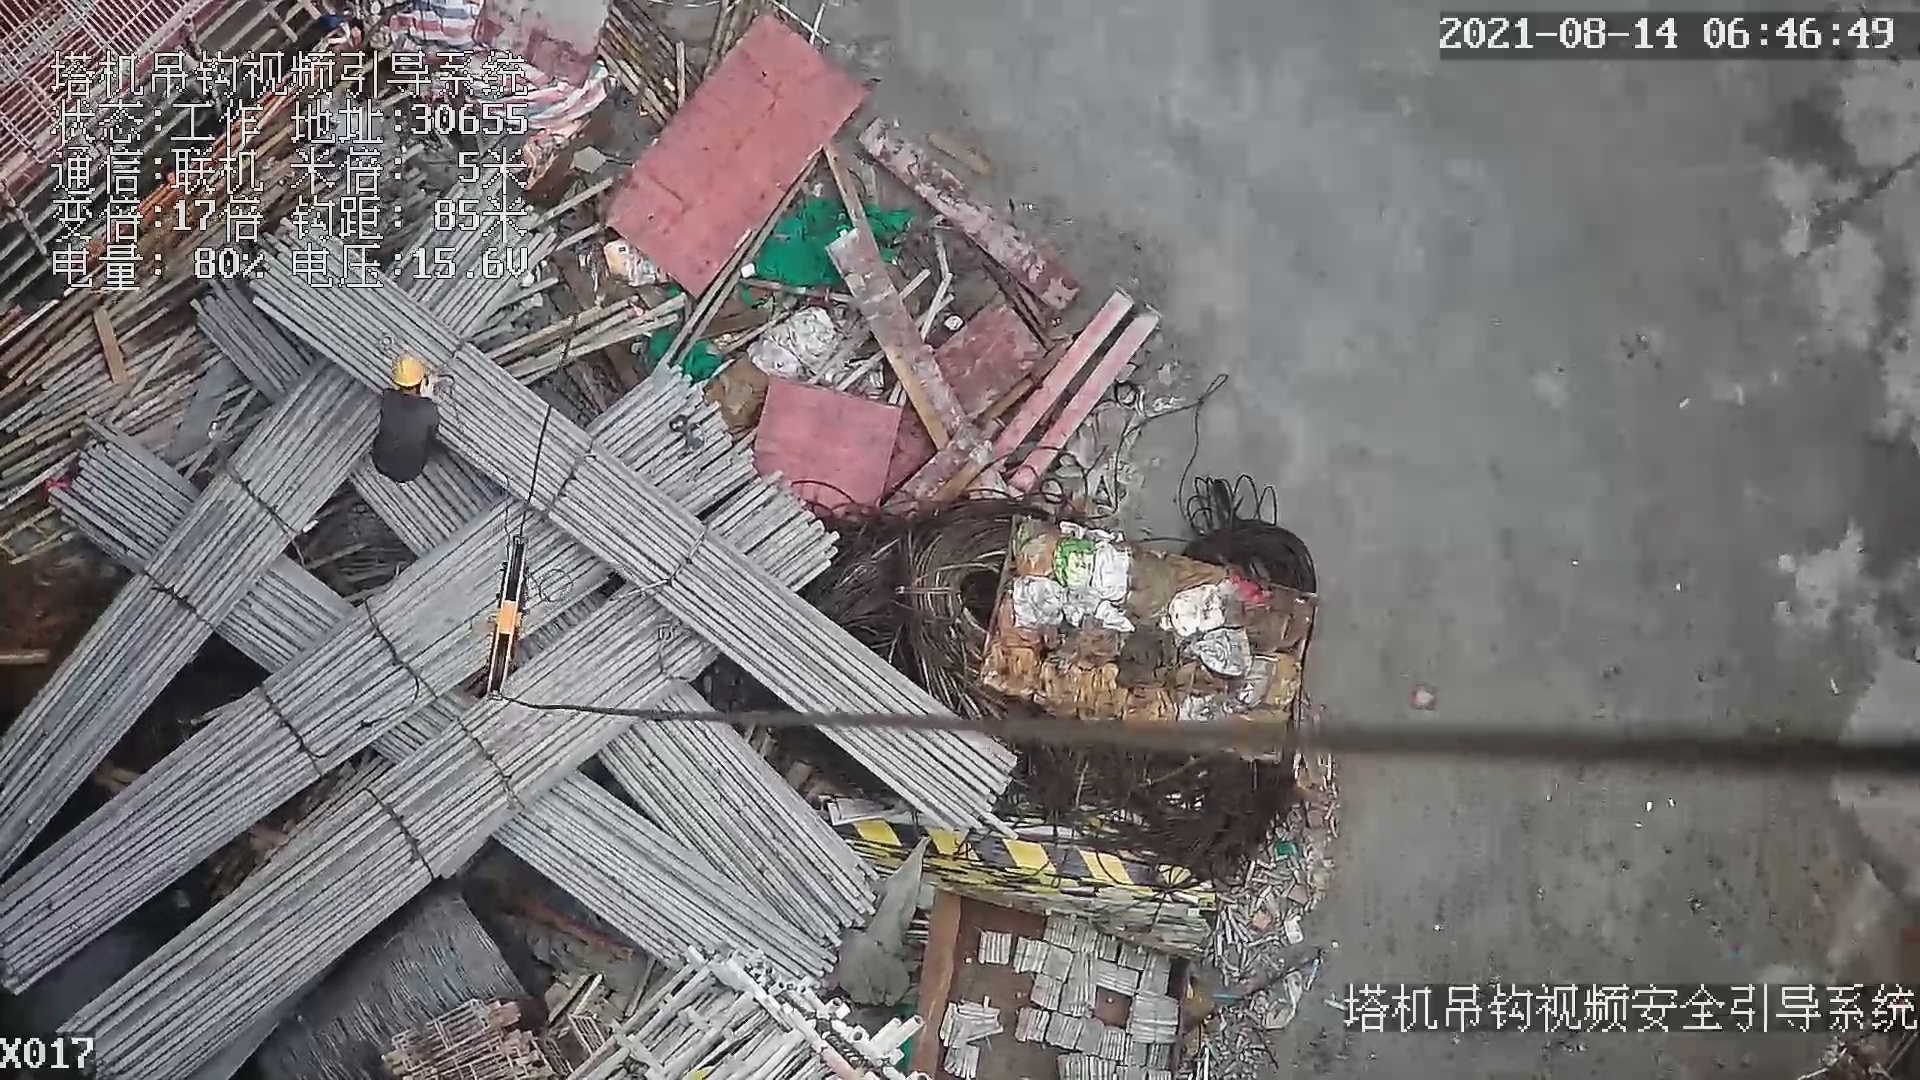board: (589, 15, 870, 283)
helmet: (388, 353, 426, 390)
hook: (478, 533, 535, 706)
person: (368, 347, 447, 491)
